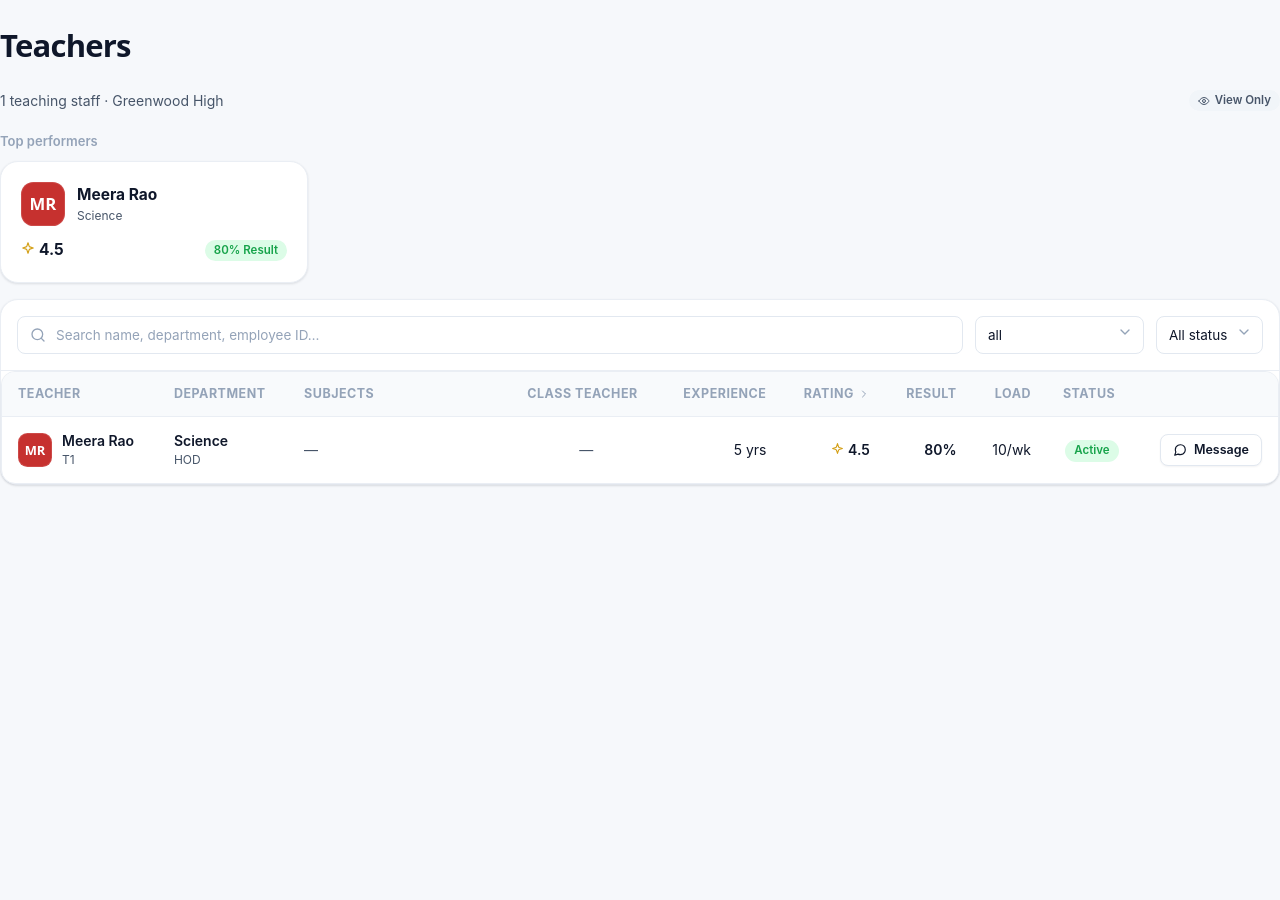
it: Teacher profile — App access card › hides the Access card for a teacher viewer
This screenshot has width=1280, height=900.
Expected: the 1st text "Meera Rao" is shown, [77,183,157,207]
Click the text "Meera Rao" in the row of "yrs" at (98, 441), box [62,430,134,452]
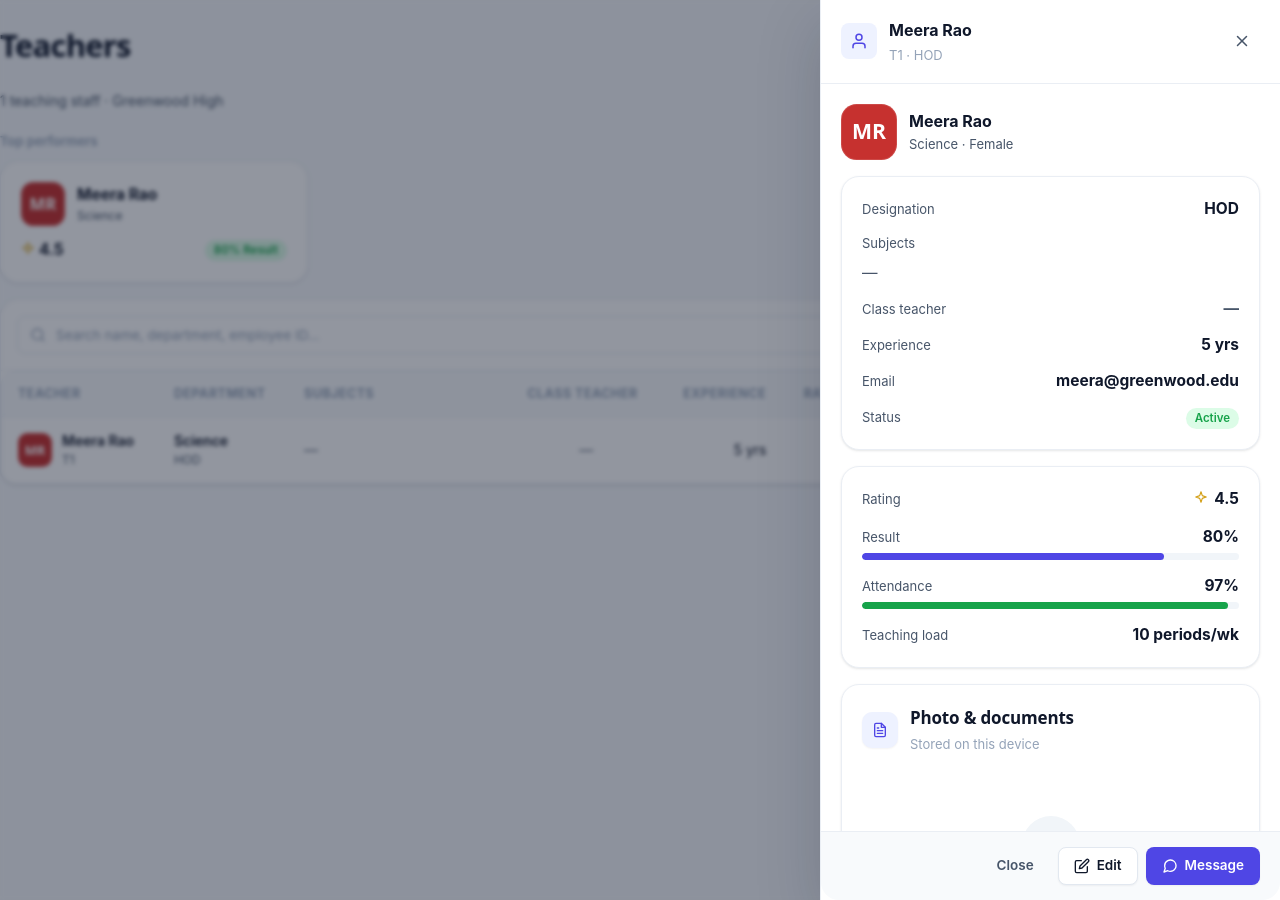
Result: the text "Photo & documents" is shown at [910,706,1074,732]
